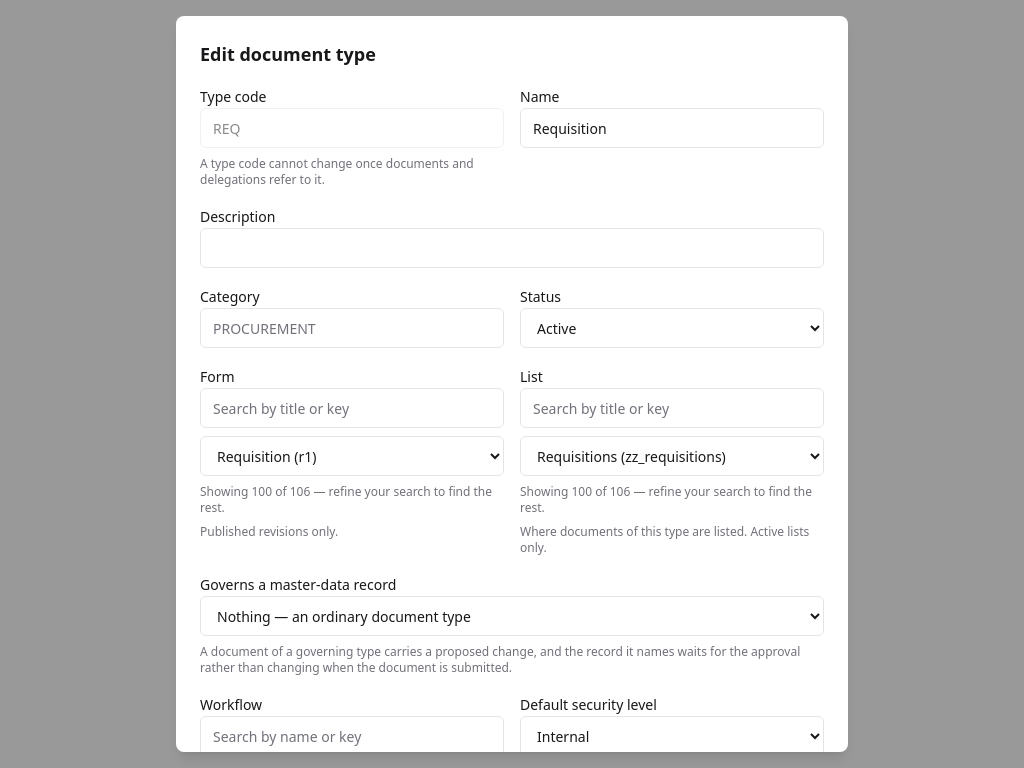
DocumentTypeFormDialog choosers › names a bound revision that has since been deprecated as deprecated
This screenshot has width=1024, height=768.
Type "retired" into the search field with test id "type-workflow-search" at (352, 736), box [200,716,504,756]
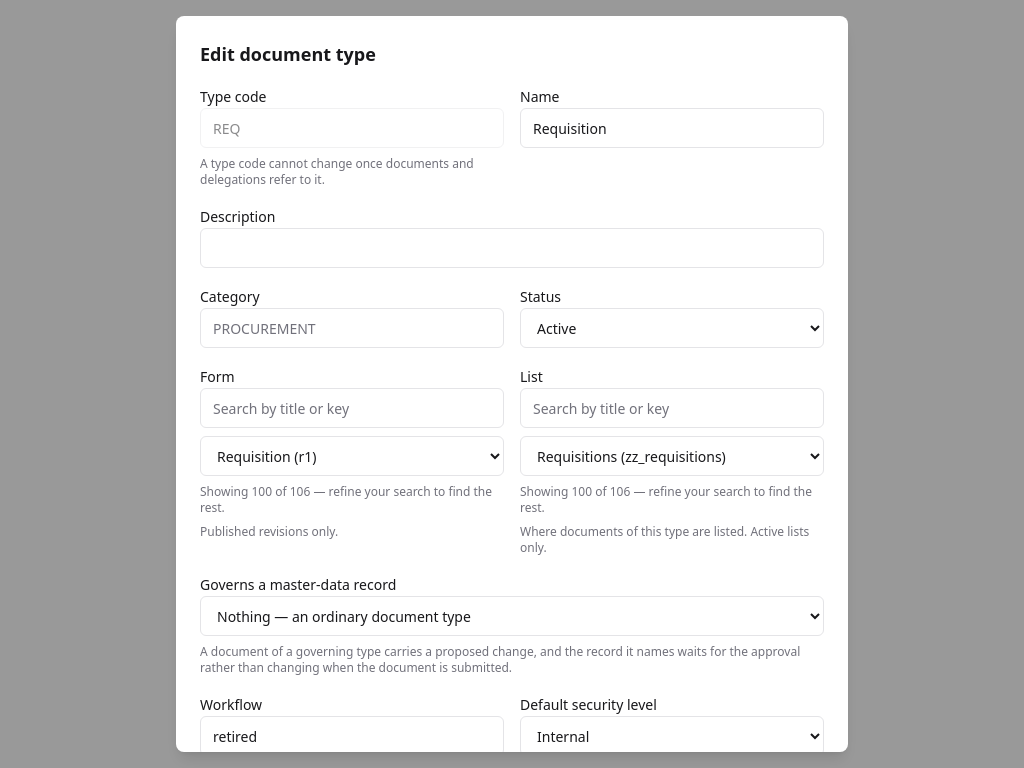
Press Enter in the search field with test id "type-workflow-search", box [200,716,504,756]
(page scrolled)
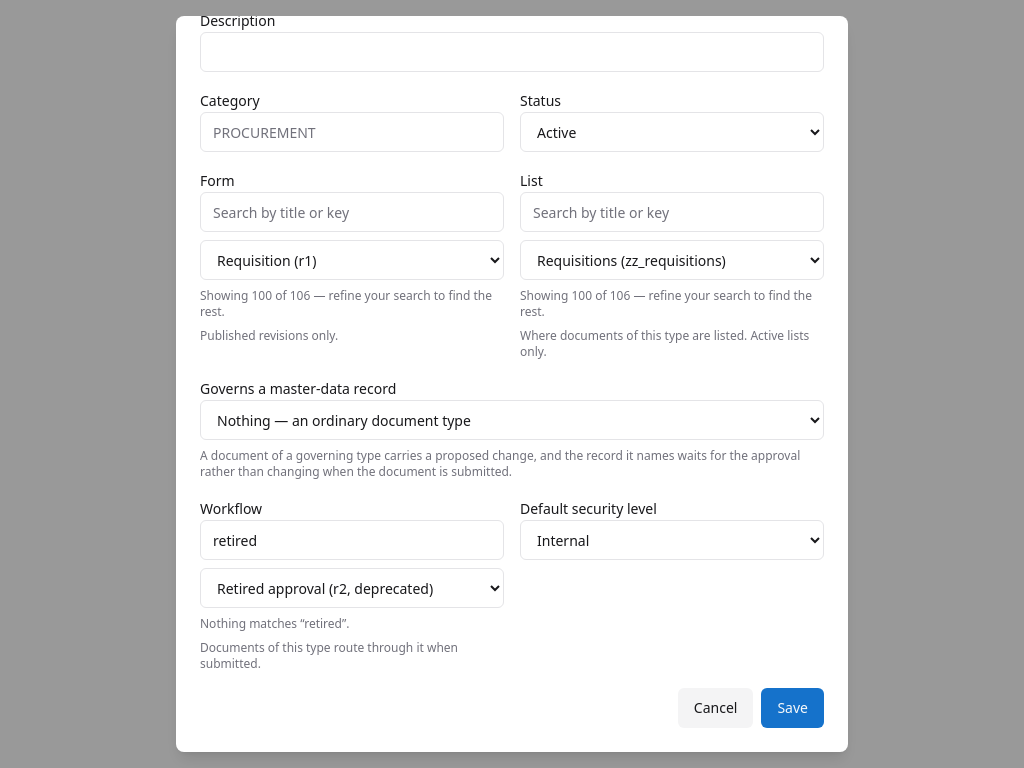
Check: the text with test id "type-workflow-status" reads "Nothing matches “retired”.", box [200,615,350,632]
